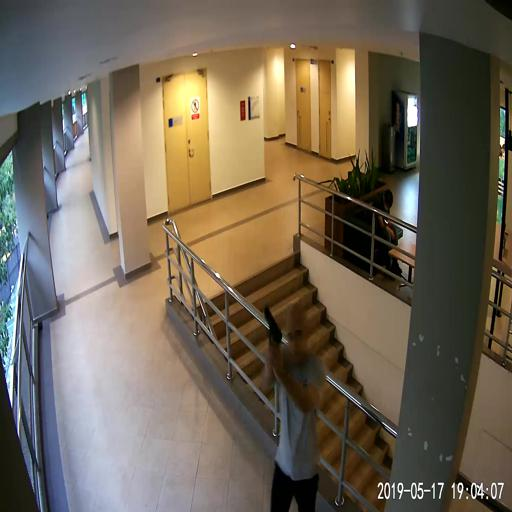pistol: (264, 305, 282, 356)
